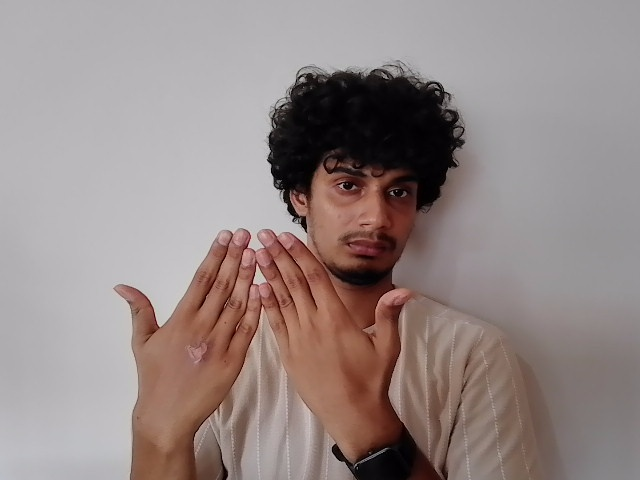thankyou: (105, 225, 427, 413)
